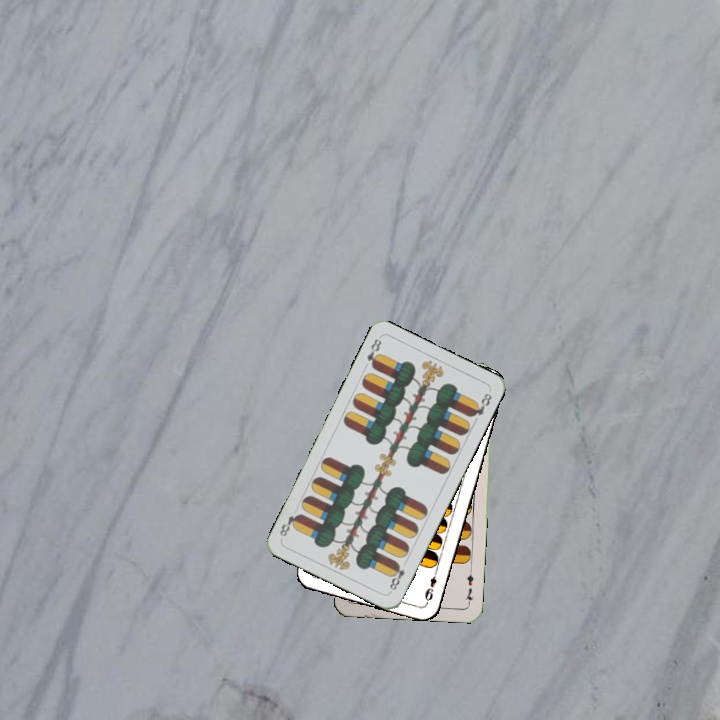E7: (461, 566, 476, 607)
E8: (385, 557, 410, 595), (362, 334, 384, 371)
E9: (421, 565, 440, 605)
